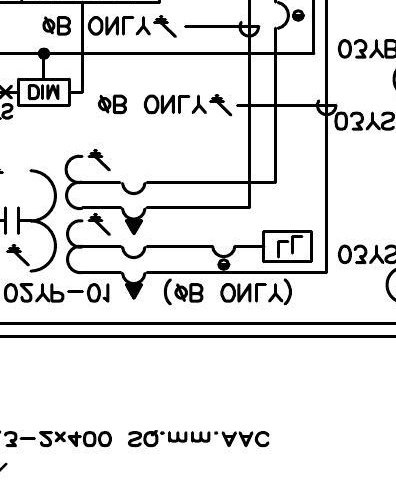115_cvt_1p: (3, 148, 149, 301)
DIM: (17, 78, 71, 107)
LL: (262, 230, 313, 263)
